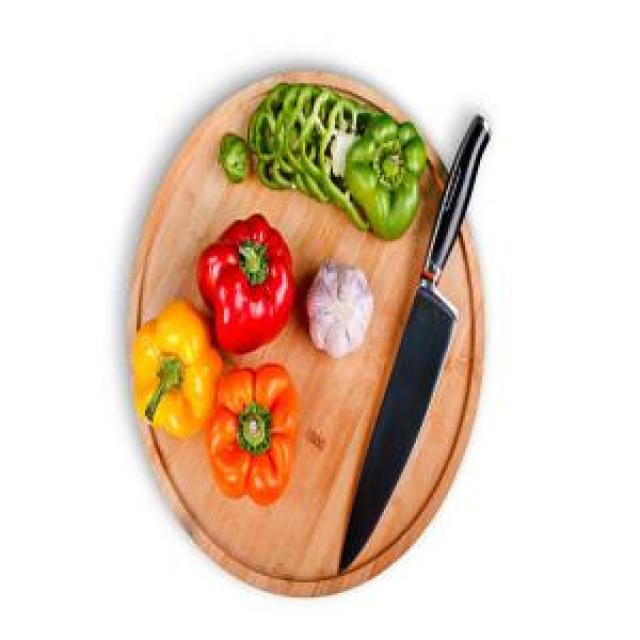knife: (337, 111, 492, 577)
